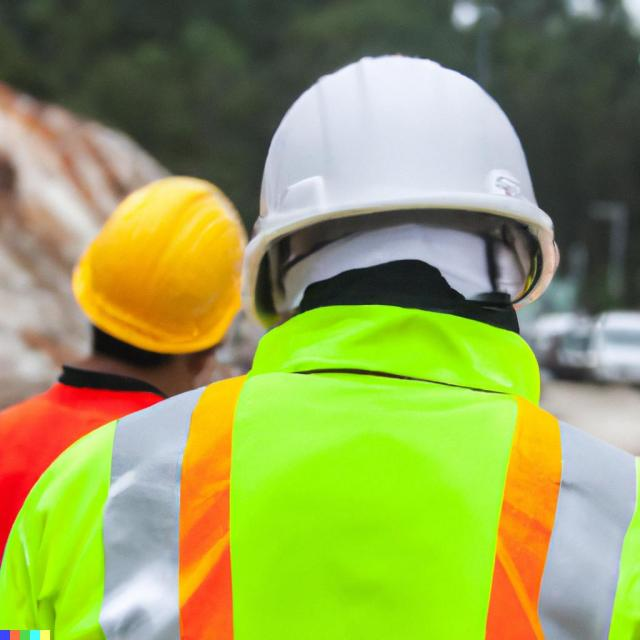Reflective-Jacket: (27, 306, 626, 636), (0, 381, 224, 638)
Safety-Helmet: (242, 54, 570, 272), (68, 174, 248, 358)
